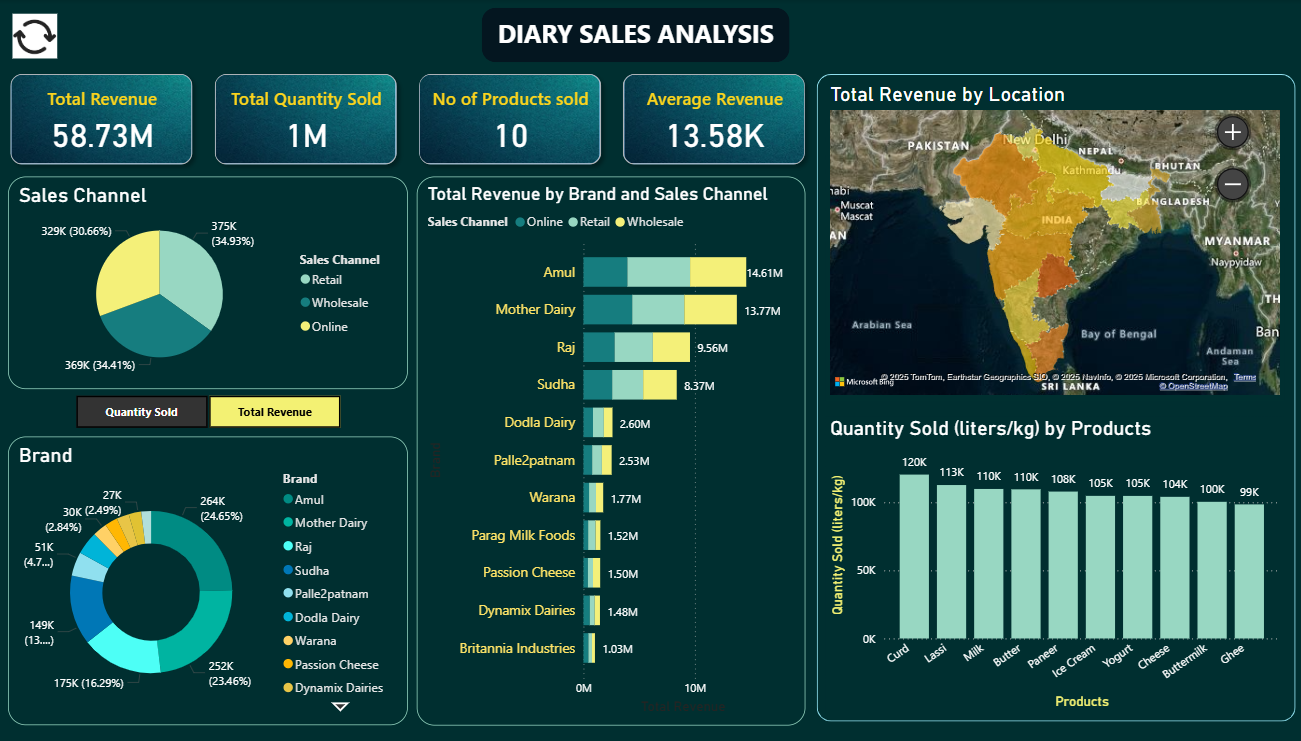

The dashboard page shown, as its layout file describes it:
{"tool":"powerbi","page":{"name":"Page 1","canvas":[1400,800],"ordinal":0},"visuals":[{"type":"shape","box":[519,9.5,330.2,58.4],"z":0},{"type":"textbox","box":[531.3,13.6,345.1,54.3],"z":1000},{"type":"cardVisual","fields":{"Data":["Sum(dairy_powerbi.Approx. Total Revenue(INR))","Sum(dairy_powerbi.Quantity Sold (liters/kg))","Count(dairy_powerbi.Product Name)","Avg(dairy_powerbi.Approx. Total Revenue(INR))"]},"box":[1.3,68.4,876.7,122],"z":2000},{"type":"shape","box":[878,80.4,513.4,694.4],"z":3000},{"type":"columnChart","fields":{"Category":["dairy_powerbi.Product Name"],"Y":["Sum(dairy_powerbi.Quantity Sold (liters/kg))"]},"box":[887.4,447.7,492,319],"z":4000},{"type":"pieChart","title":"Sales Channel","fields":{"Y":["dairy_powerbi.sum of quantity sold"],"Category":["dairy_powerbi.Sales Channel"]},"box":[10.7,190.3,429,227.9],"z":5000},{"type":"barChart","title":"Total Revenue by Brand and Sales Channel","fields":{"Y":["Sum(dairy_powerbi.Approx. Total Revenue(INR))"],"Category":["dairy_powerbi.Brand"],"Series":["dairy_powerbi.Sales Channel"]},"box":[449.1,190.3,416.9,588.5],"z":6000},{"type":"donutChart","title":"Brand","fields":{"Y":["dairy_powerbi.sum of quantity sold"],"Category":["dairy_powerbi.Brand"]},"box":[10.7,469.2,429,309.7],"z":7000},{"type":"slicer","fields":{"Values":["Parameter.Parameter"]},"box":[57.6,418.2,333.8,48.3],"z":8000},{"type":"filledMap","title":"Total Revenue by Location","fields":{"Category":["dairy_powerbi.Customer Location"]},"box":[887.4,89.8,492,340.5],"z":9000},{"type":"image","box":[10.7,9.4,57.6,60.3],"z":10000}]}

Visuals, with their boxes in screenshot pixels (x1, y1, x2, y2), scaled from the page's 1400x800 canvas onto the 1301x741 screenshot:
shape: box(482, 9, 789, 63)
textbox: box(494, 13, 814, 63)
cardVisual - Sum(dairy_powerbi.Approx. Total Revenue(INR)) x Sum(dairy_powerbi.Quantity Sold (liters/kg)): box(1, 63, 816, 176)
shape: box(816, 74, 1293, 718)
columnChart - dairy_powerbi.Product Name x Sum(dairy_powerbi.Quantity Sold (liters/kg)): box(825, 415, 1282, 710)
"Sales Channel" pieChart: box(10, 176, 409, 387)
"Total Revenue by Brand and Sales Channel" barChart: box(417, 176, 805, 721)
"Brand" donutChart: box(10, 435, 409, 721)
slicer - Parameter.Parameter: box(54, 387, 364, 432)
"Total Revenue by Location" filledMap: box(825, 83, 1282, 399)
image: box(10, 9, 63, 65)
